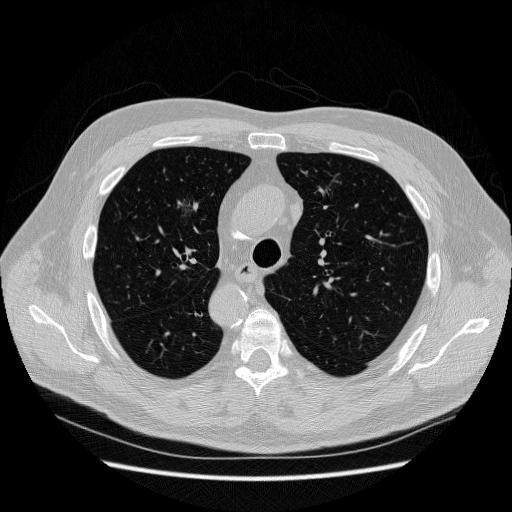nodule: (178, 199, 197, 218)
